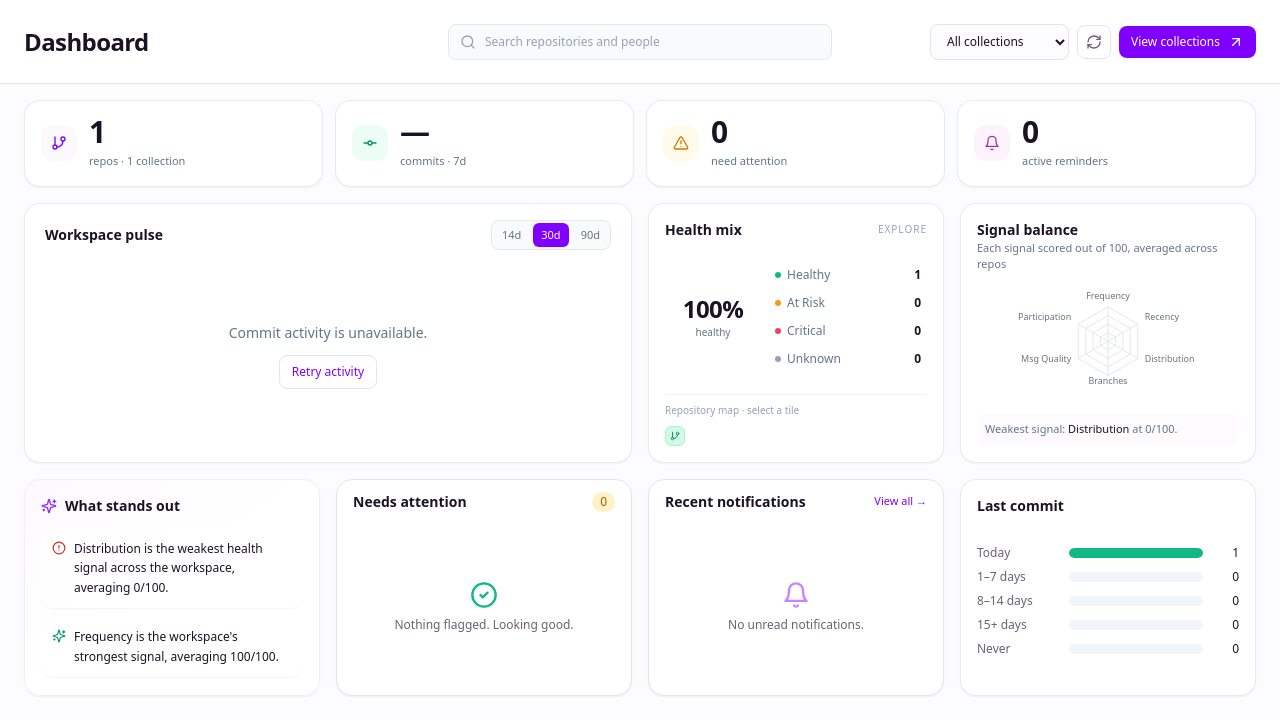
DashboardPage — interactive workspace › shows an activity failure instead of a fabricated zero and can retry
Check: the text "Commit activity is unavailable." is shown, box left=229, top=323, right=427, bottom=343
Click the button "Retry activity". click: click(328, 372)
box: left=279, top=355, right=377, bottom=389
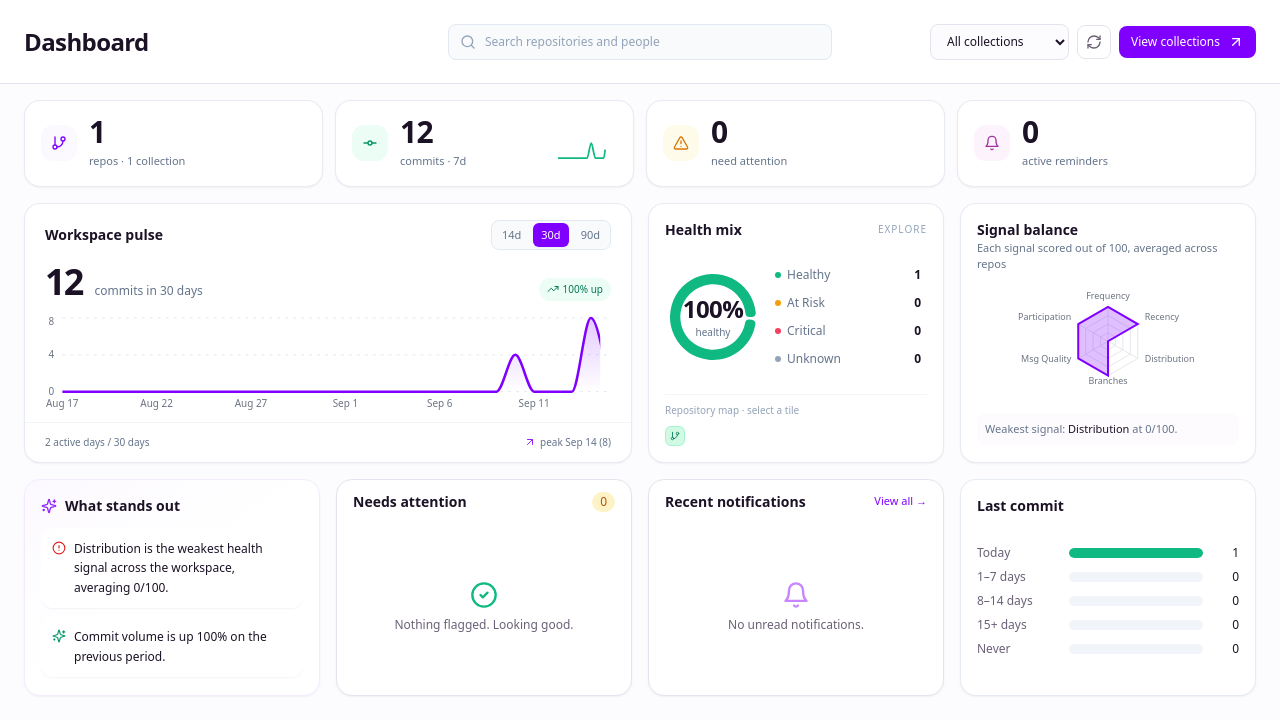
Check: the text "12" next to "commits in" is shown, box left=45, top=257, right=83, bottom=306
